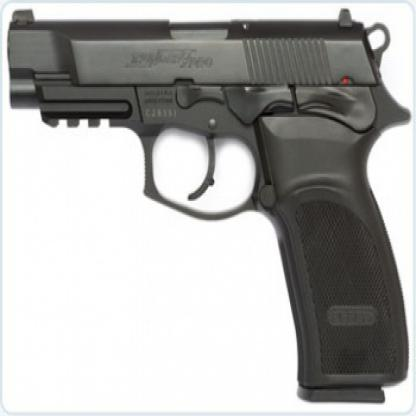Guns: (3, 3, 414, 415)
